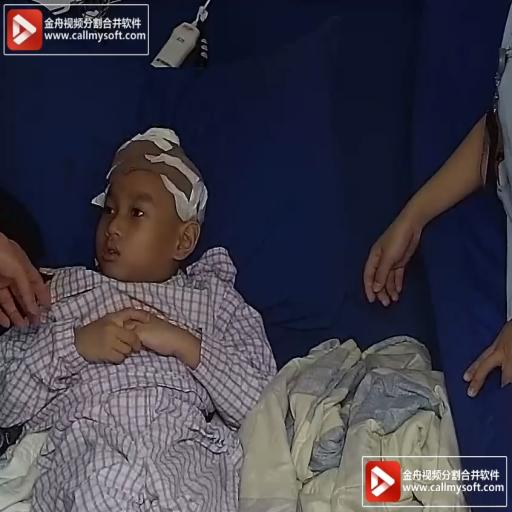Seizure: (87, 138, 195, 269)
